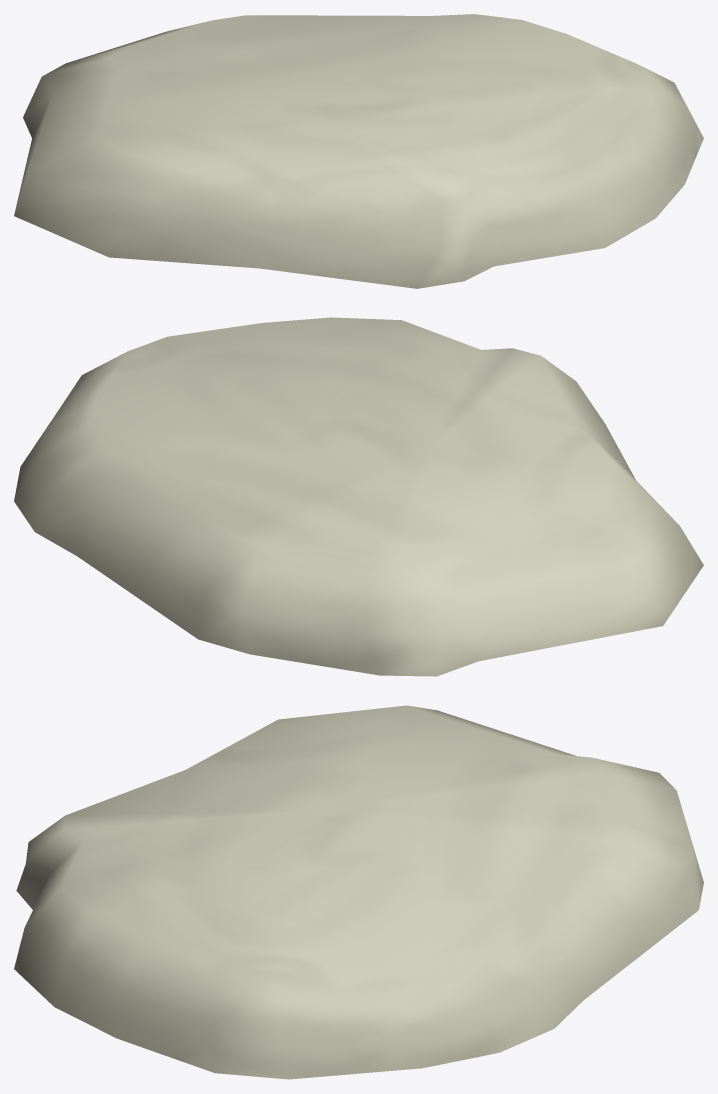
The model's file is Sand_Drift.fbx.
3 renders of one model, top to bottom at view 1: azimuth 30°, elevation 25°; view 2: azimuth 150°, elevation 25°; view 3: azimuth 270°, elevation 25°, orthographic. The views are drawn at different scales.
Parts seen in each view (by area): view 1: pCylinder2; view 2: pCylinder2; view 3: pCylinder2.
Part boxes in pixels (x1,y1,x2,y2): pCylinder2: (14,14,703,288); pCylinder2: (14,317,703,676); pCylinder2: (14,705,703,1079).
Size of the model in its own units: 27.84 by 2.87 by 23.71.
